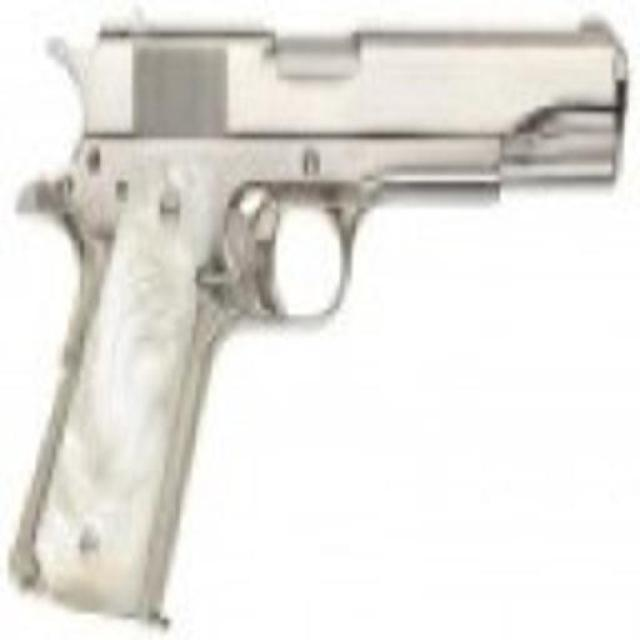pistol: (27, 5, 620, 634)
